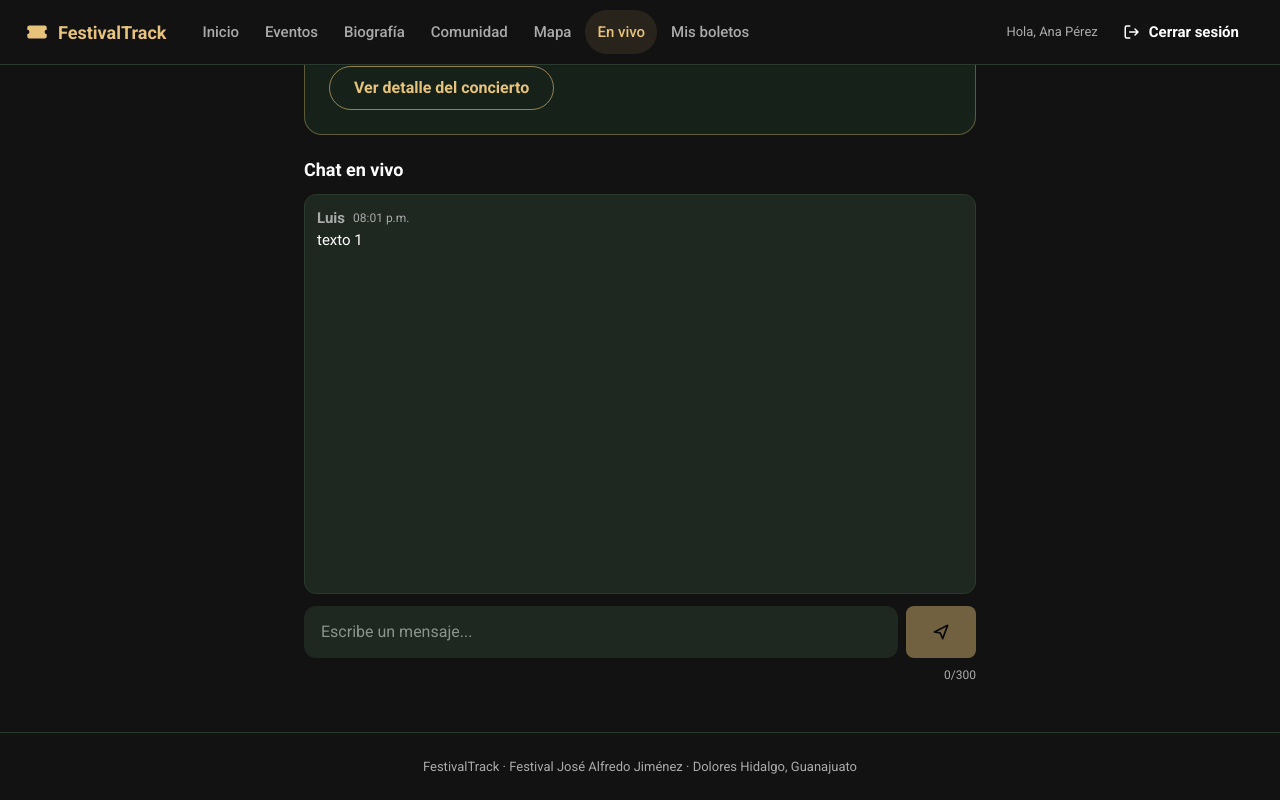
Test case: En vivo (/en-vivo) › con sesión: envía el mensaje, aparece al instante, se limpia el campo y se cuenta hasta 300
(page scrolled)
Check: the button named "Enviar mensaje" is disabled, box [906, 606, 976, 658]
Type "  ¡Viva México!  " into the field labelled "Escribe un mensaje" at point(601, 632), box [304, 606, 898, 658]
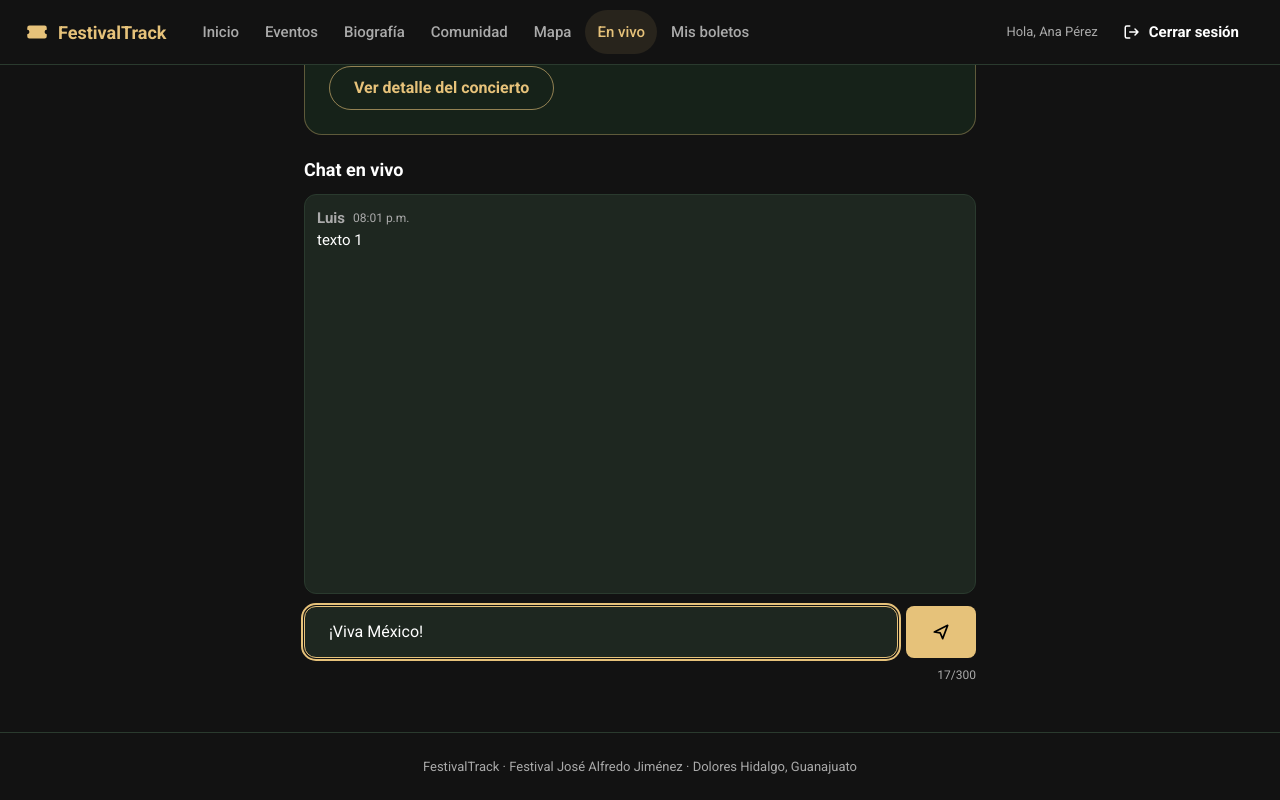
Check: the text "17/300" is shown, box [937, 666, 976, 684]
Check: the button named "Enviar mensaje" is enabled
Click the button named "Enviar mensaje" at point(941, 632), box [906, 606, 976, 658]
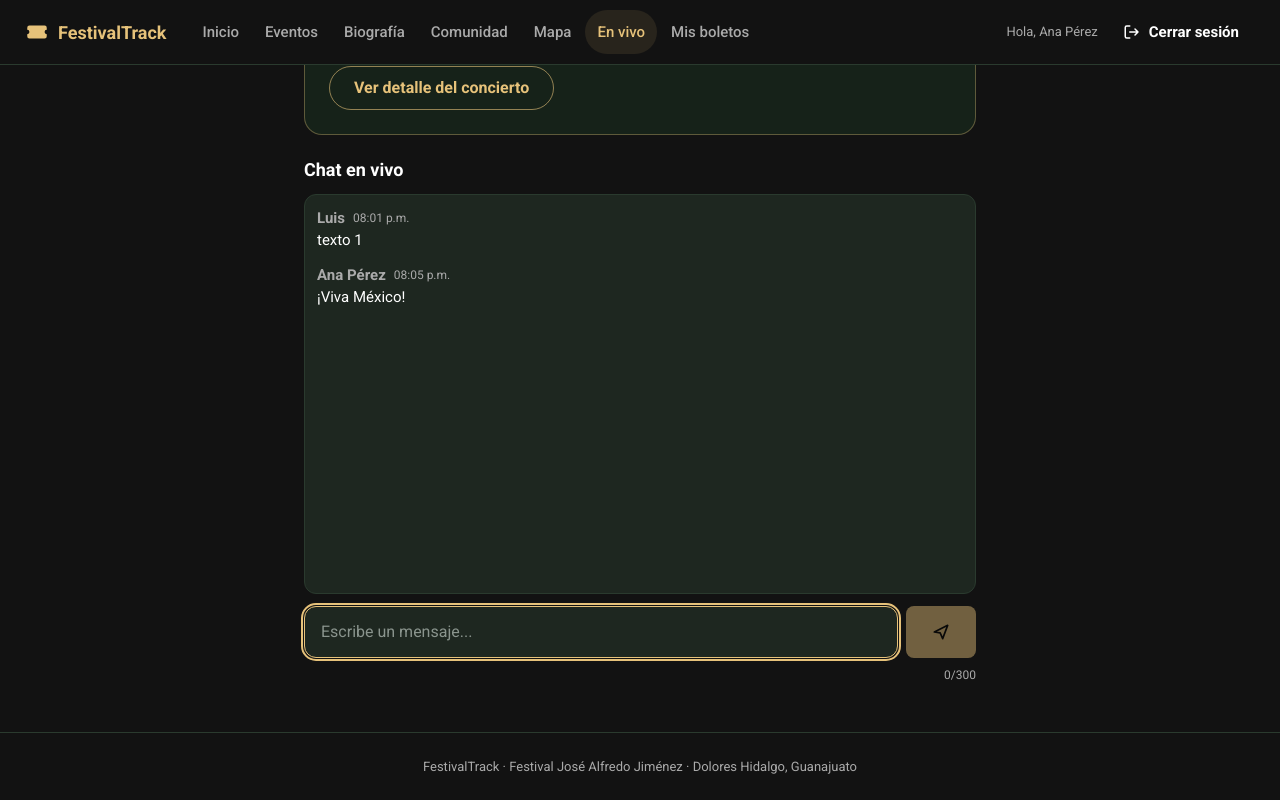
Check: the text "¡Viva México!" is shown, box [317, 288, 405, 306]
Check: the field labelled "Escribe un mensaje" is empty, box [304, 606, 898, 658]
Check: the text "0/300" is shown, box [944, 666, 976, 684]
